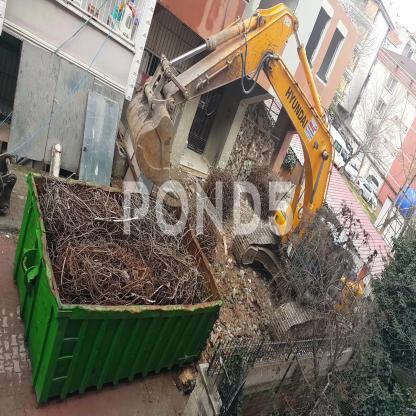rebar: (33, 171, 218, 302), (178, 163, 243, 255), (245, 166, 290, 218)
